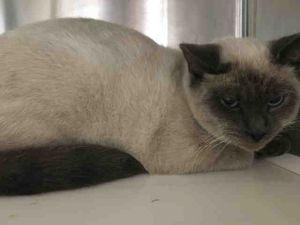siamese: (177, 31, 300, 160)
